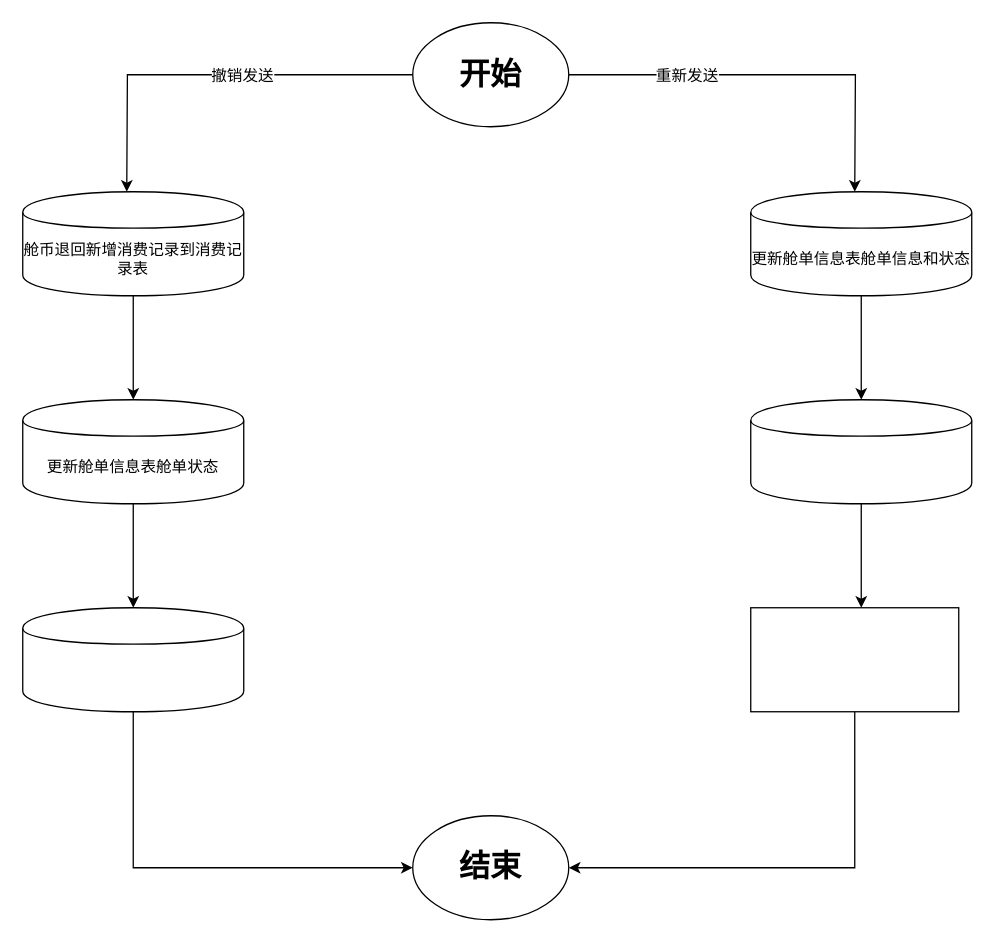
Some shapes in this 994 by 942 pixel diagram are drawn without their labels. Each missing label, with the centre of its shape:
调用Cargo接口发送舱单: the point at 854,659
退单记录表新增一条退单记录: the point at 132,659
退单记录表新更新舱单状态: the point at 860,451
